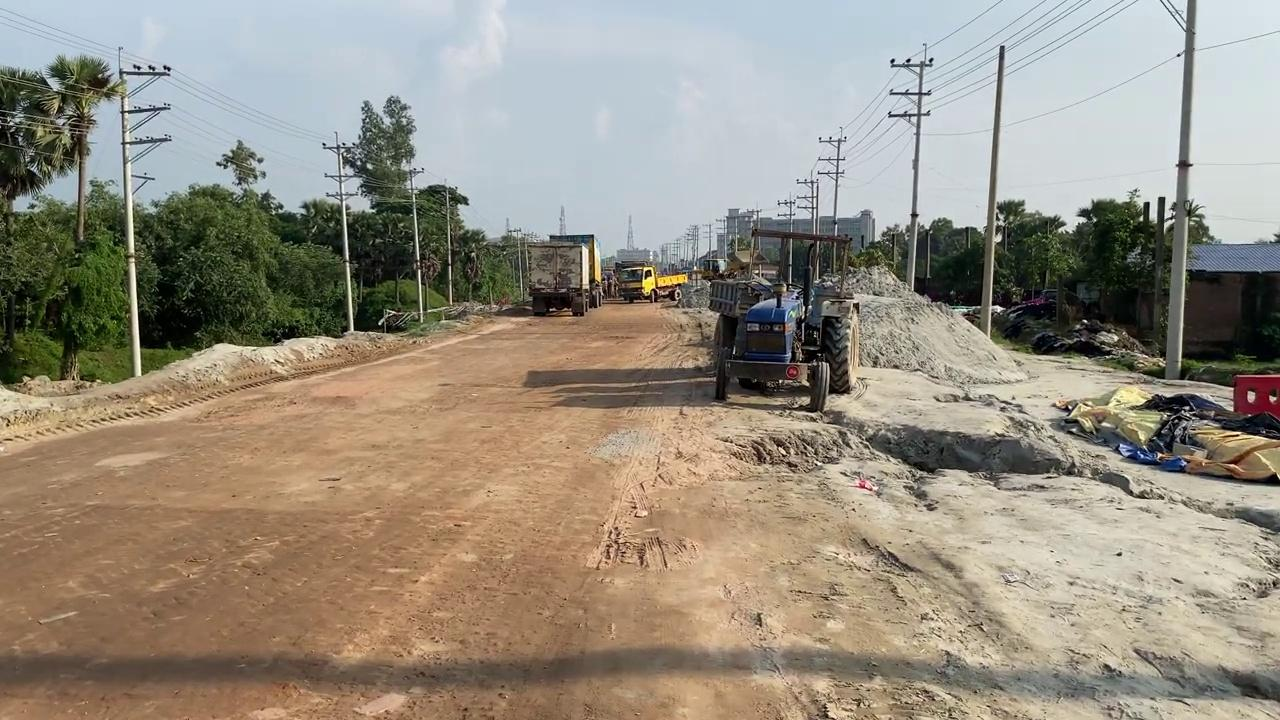Garbage: (1054, 384, 1278, 482)
Light-pole: (116, 52, 172, 377)
Pole: (1163, 0, 1197, 379), (117, 52, 142, 377), (979, 44, 1005, 338), (407, 167, 425, 321), (443, 177, 453, 305)
Traffic-sign: (38, 52, 127, 380)
Tree: (707, 227, 860, 412), (525, 240, 590, 316), (548, 233, 604, 307), (612, 260, 688, 303), (675, 266, 712, 309)
